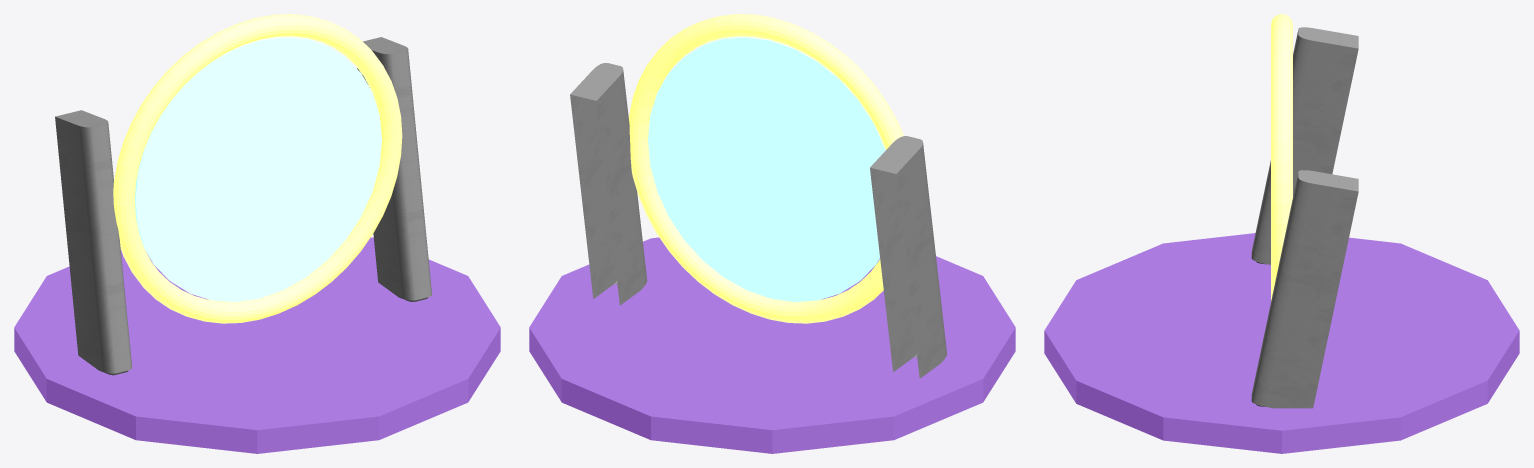
Rendered from prop_astral_portal.glb.
3 views of the same model, side by side, from view 1: azimuth 30°, elevation 25°; view 2: azimuth 150°, elevation 25°; view 3: azimuth 270°, elevation 25° (orthographic). The views are drawn at different scales.
Parts seen in each view (by area): view 1: Cylinder, Cylinder.001, Torus, Column_Astra, Column_Astra.001; view 2: Cylinder, Cylinder.001, Torus, Column_Astra, Column_Astra.001; view 3: Cylinder, Column_Astra.001, Column_Astra, Torus.
Boxes of the visible parts, x1,y1,x2,y2 form: Cylinder: (14, 237, 500, 453); Cylinder.001: (135, 36, 381, 301); Torus: (113, 14, 402, 323); Column_Astra: (55, 110, 132, 375); Column_Astra.001: (357, 37, 431, 301); Cylinder: (529, 237, 1015, 453); Cylinder.001: (648, 36, 885, 301); Torus: (628, 14, 903, 323); Column_Astra: (870, 136, 946, 378); Column_Astra.001: (570, 63, 647, 305); Cylinder: (1044, 233, 1519, 453); Column_Astra.001: (1251, 170, 1358, 408); Column_Astra: (1251, 27, 1358, 264); Torus: (1271, 14, 1292, 301).
Bounding box in the file's own units: 5.2 × 3.93 × 5.2.
9 materials, 6 textured.
